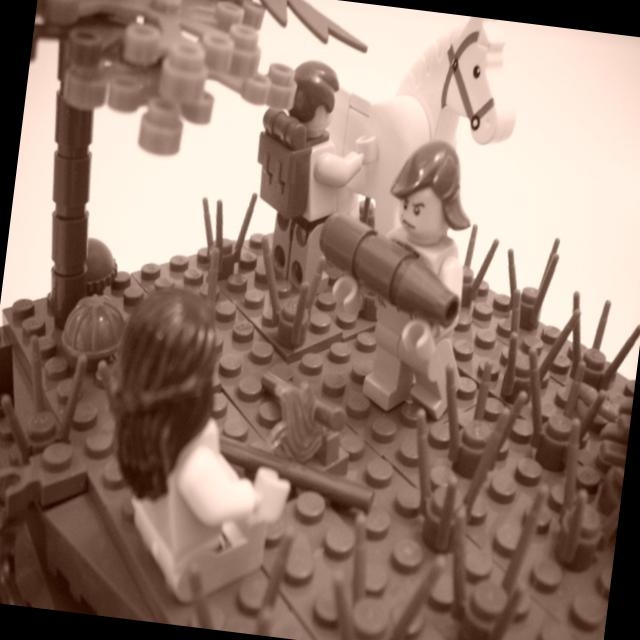Toy: (84, 278, 324, 616), (217, 36, 396, 278), (354, 130, 486, 433)
